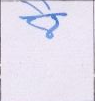ai_matra: (15, 0, 64, 14)
